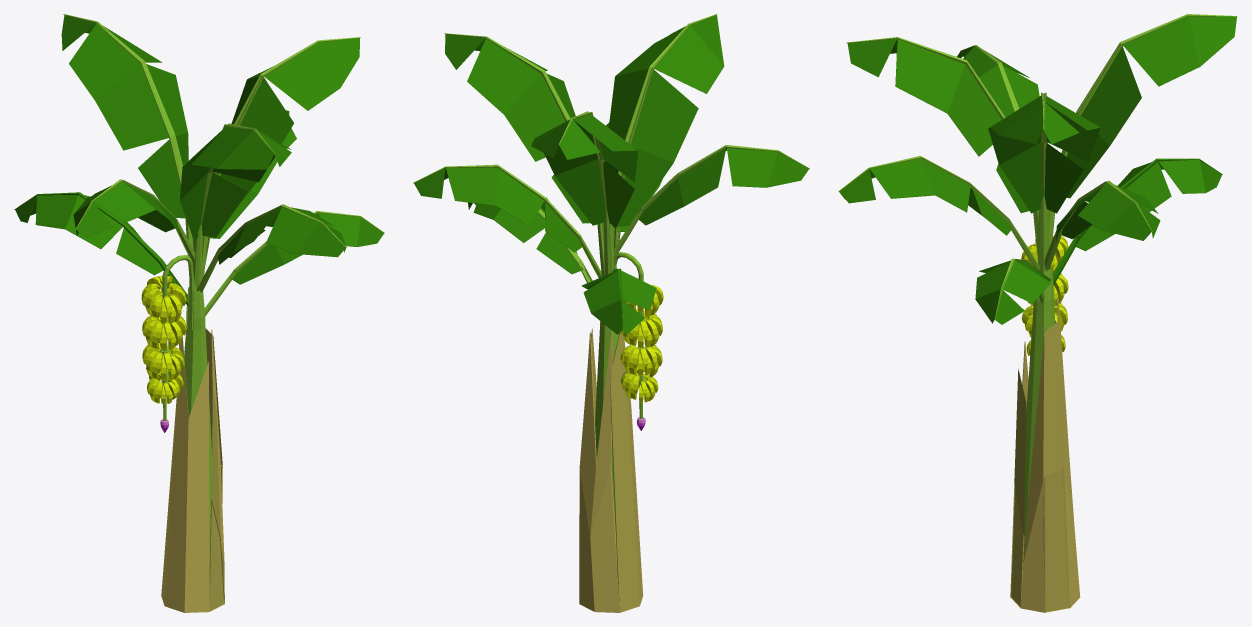
File: bananatree_fixed_new.fbx
The picture shows the model from 3 angles, left to right: view 1: azimuth 30°, elevation 25°; view 2: azimuth 150°, elevation 25°; view 3: azimuth 270°, elevation 25°; orthographic projection. The views are drawn at different scales.
Visible parts, largest first — view 1: Cube.139; view 2: Cube.139; view 3: Cube.139.
Part boxes in pixels (x1,y1,x2,y2): Cube.139: [14, 14, 384, 612]; Cube.139: [413, 14, 809, 612]; Cube.139: [838, 14, 1237, 612].
Bounding box in the file's own units: 1705 × 2683 × 1708.
